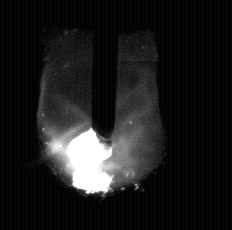arame: (92, 0, 116, 145)
poca: (38, 0, 163, 230)
